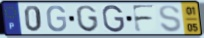0: (23, 5, 43, 33)
F: (130, 4, 156, 34)
G: (101, 4, 126, 34), (75, 5, 100, 33), (46, 5, 68, 33)
S: (158, 4, 183, 33)
